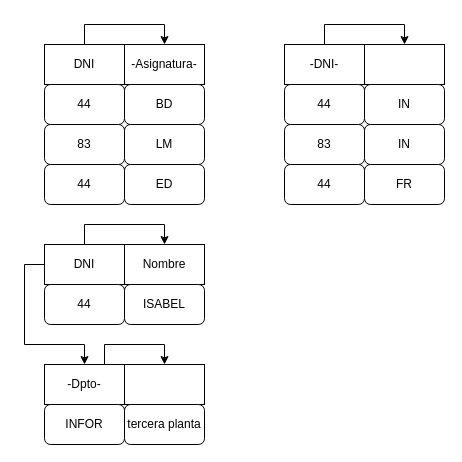
Image size: 462x462. Some labels were removed from this diagram. The centre of each missing label's shape, as x and y in pixels:
"-idioma-" goes at point 404,64.
"Ubicacion" goes at point 164,384.
